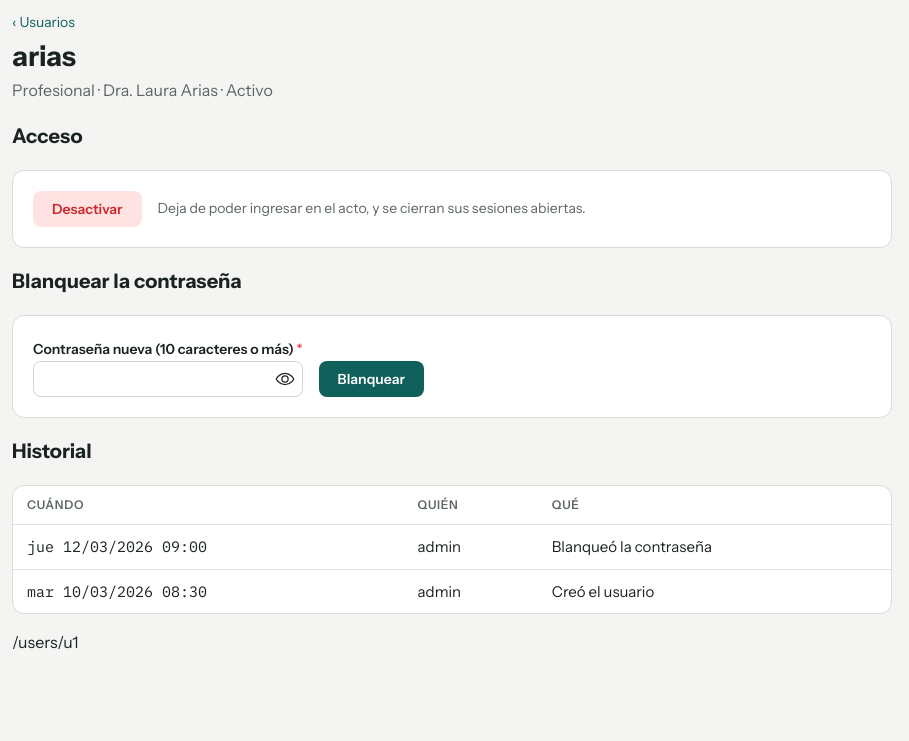
Scenario: a user › says who they are and what was done to them, and offers deactivating an active one
Expected: the text "Profesional · Dra. Laura Arias · Activo" is shown, [12,80,273,100]
Expected: the text "Blanqueó la contraseña" is shown, [538,525,891,569]
Step 1. Click the button "Desactivar" → (87,209), box [33,191,142,227]
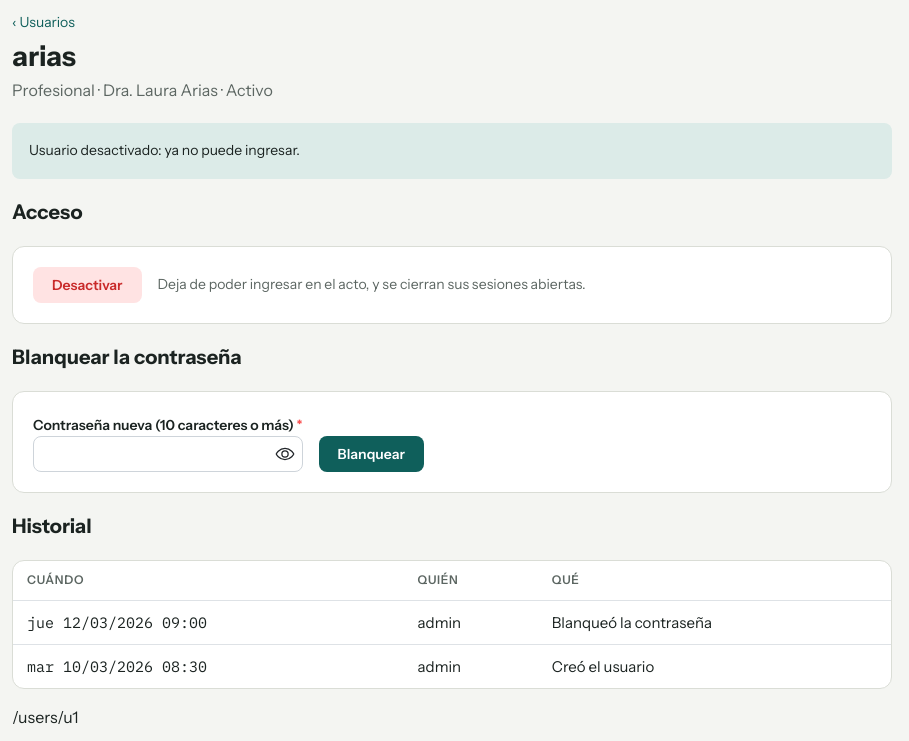
Expected: the message reads "Usuario desactivado: ya no puede ingresar.", [29,141,300,159]
